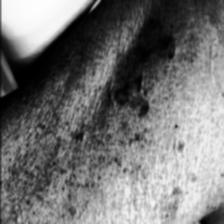Potentially Malignant Skin Tumors: (110, 12, 178, 116)
